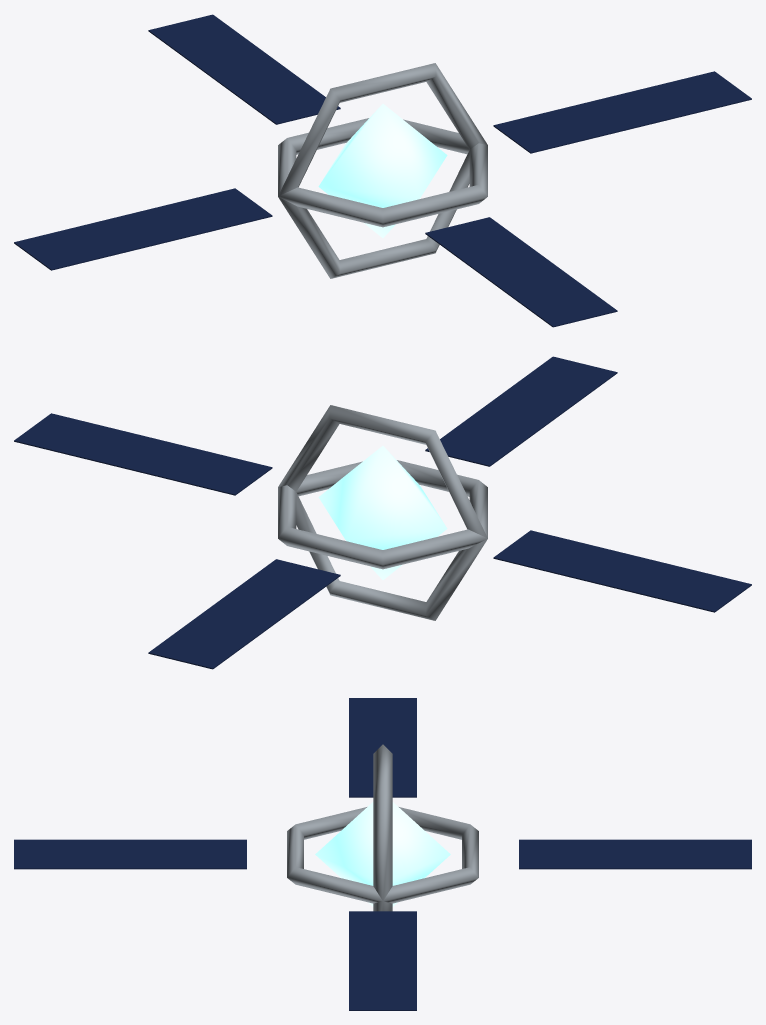
The model's file is space_orbital_energy_t2_lod2.glb.
The picture shows the model from 3 angles, top to bottom: view 1: azimuth 30°, elevation 25°; view 2: azimuth 150°, elevation 25°; view 3: azimuth 270°, elevation 25°; orthographic projection. The views are drawn at different scales.
Visible parts, largest first — view 1: body, solar_0, solar_2, solar_1, solar_3; view 2: body, solar_0, solar_2, solar_3, solar_1; view 3: body, solar_1, solar_3, solar_0, solar_2.
Part boxes in pixels (x1,y1,x2,y2): body: [278, 63, 487, 278]; solar_0: [493, 71, 751, 153]; solar_2: [14, 188, 272, 270]; solar_1: [425, 217, 617, 327]; solar_3: [148, 14, 340, 124]; body: [278, 405, 487, 620]; solar_0: [14, 413, 272, 495]; solar_2: [493, 530, 751, 612]; solar_3: [148, 559, 340, 669]; solar_1: [425, 356, 617, 466]; body: [287, 744, 478, 911]; solar_1: [14, 839, 246, 869]; solar_3: [519, 839, 751, 869]; solar_0: [349, 911, 416, 1010]; solar_2: [349, 698, 416, 797].
Bounding box in the file's own units: 38 × 9.87 × 38.
